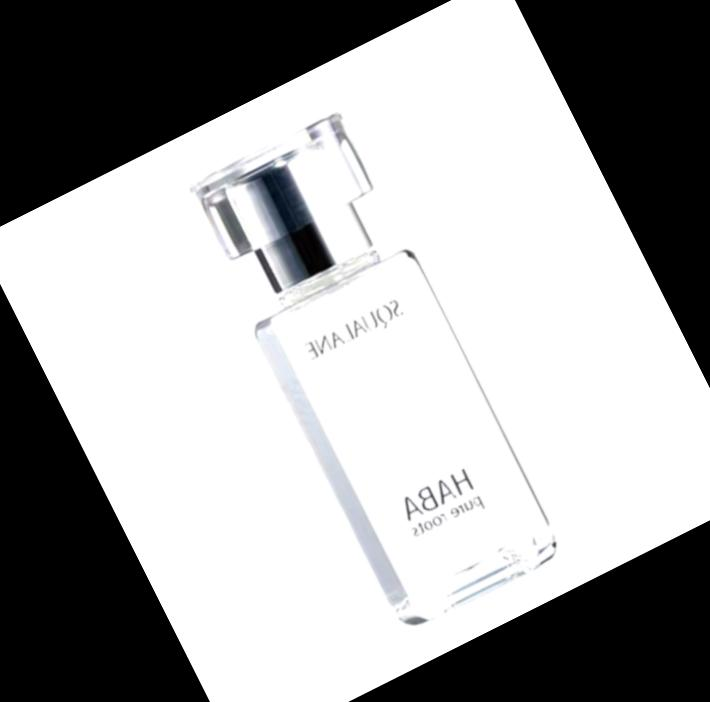cosmetic: (179, 106, 566, 633)
